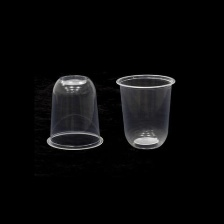glass: (38, 66, 107, 153), (111, 72, 179, 151)
